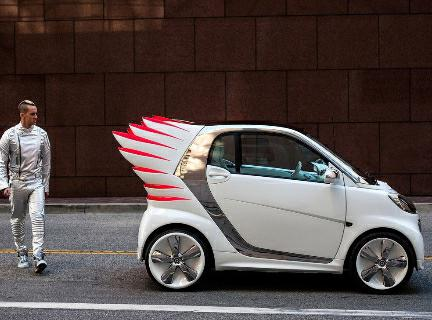smart-forjeremy: (126, 115, 416, 295)
